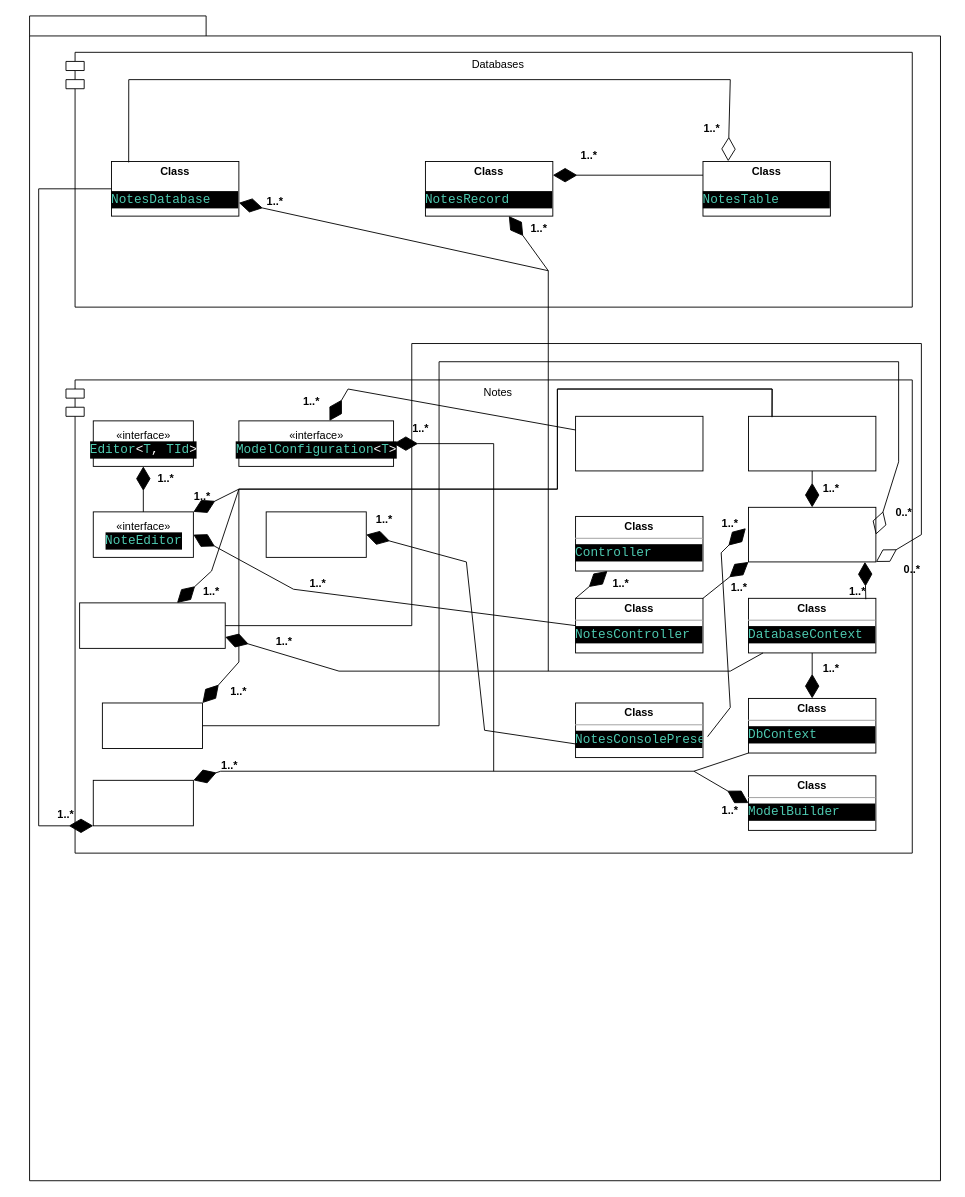
Some shapes in this 965 by 1197 pixel diagram are drawn without their labels. Each missing label, with the centre of its shape:
Class ConcreteNoteEditor: the point at 812,443
Class Note: the point at 812,534
Class NoteConfiguration: the point at 639,443
«interface» Database: the point at 142,802
«interface» NotesDatabaseContext: the point at 152,625
«interface» NotesPresenter: the point at 151,725
«interface» Presenter: the point at 315,534
